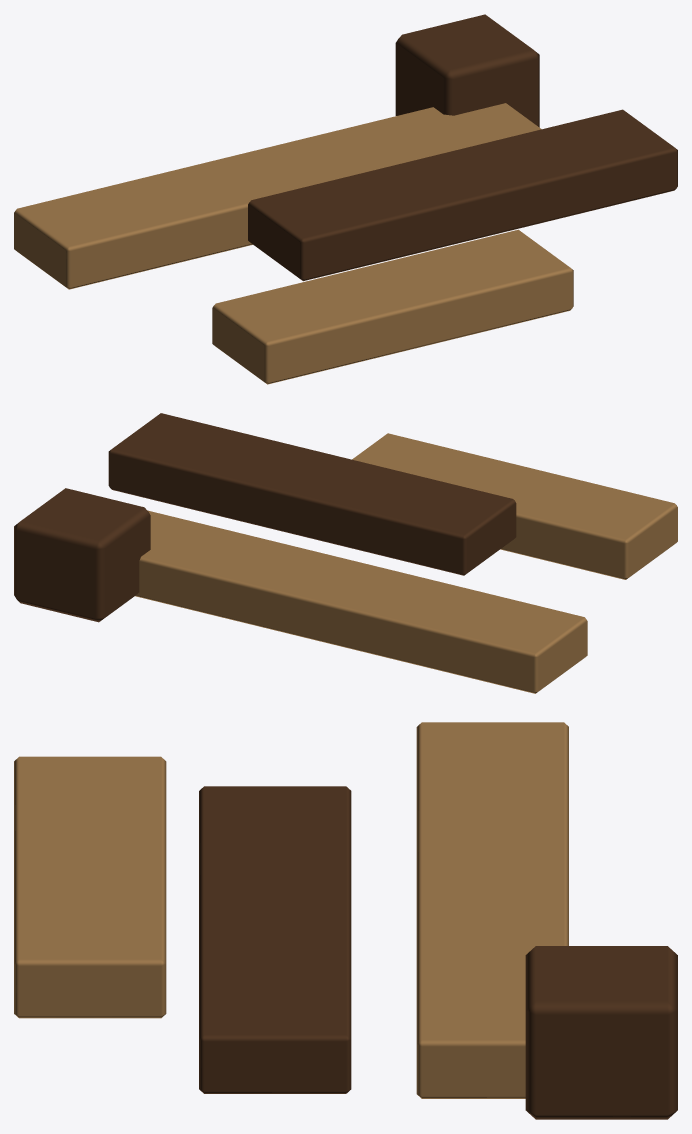
File: rubble.50c1e168.glb
3 views of the same model, one above another, from view 1: azimuth 30°, elevation 25°; view 2: azimuth 150°, elevation 25°; view 3: azimuth 270°, elevation 25° (orthographic). The views are drawn at different scales.
Visible parts, largest first — view 1: body; view 2: body; view 3: body.
Boxes of the visible parts, x1=… form: body: x1=14, y1=14, x2=677, y2=384; body: x1=14, y1=413, x2=677, y2=693; body: x1=14, y1=722, x2=677, y2=1119.
Size of the model in its own units: 0.775 by 0.12 by 0.61.
